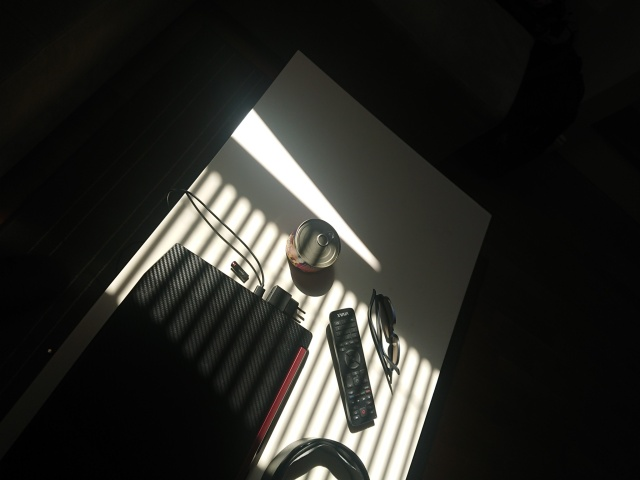Giana Tuna Salad Mexico 185g: (284, 217, 343, 275)
